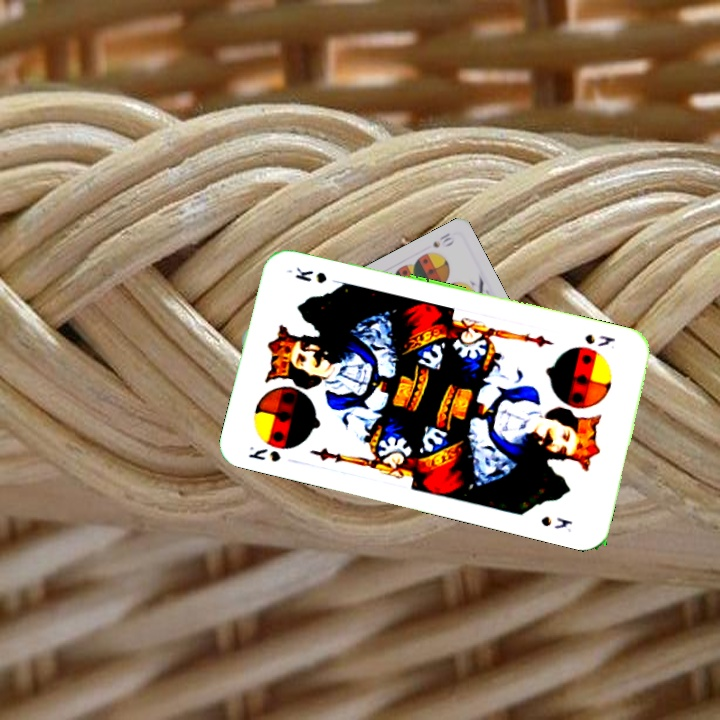S10: (429, 228, 457, 250)
SK: (244, 442, 283, 465), (580, 330, 618, 349)
